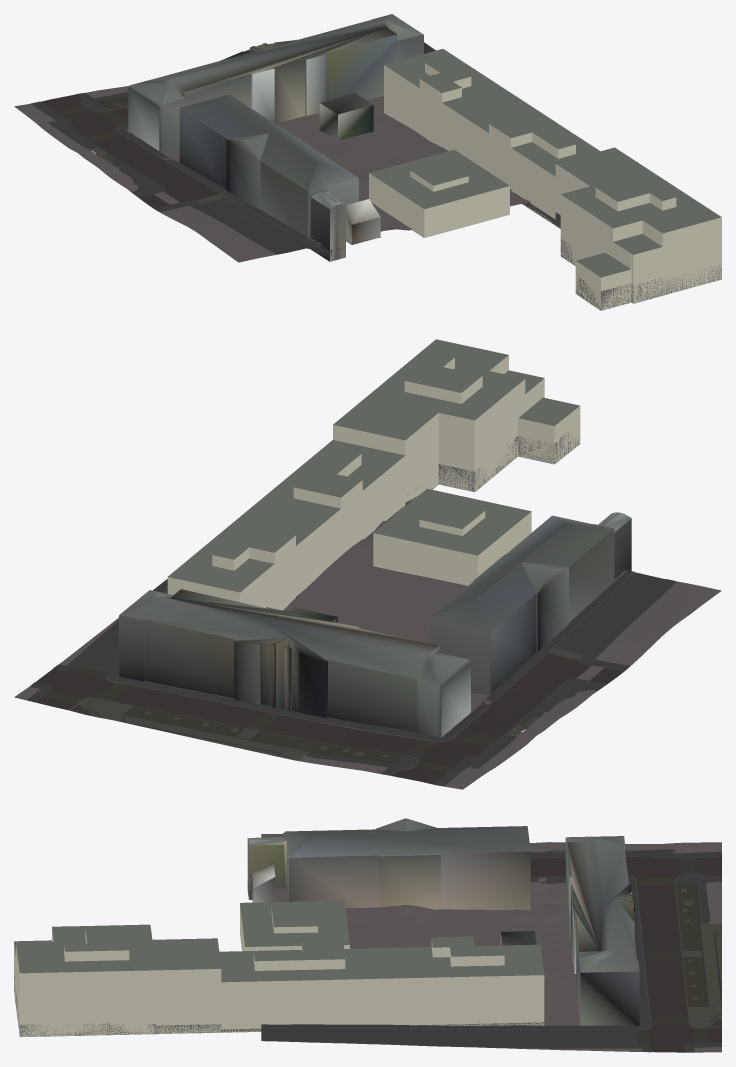
3 views of the same model, one above another, from view 1: azimuth 30°, elevation 25°; view 2: azimuth 150°, elevation 25°; view 3: azimuth 270°, elevation 25° (orthographic). The views are drawn at different scales.
Visible parts, largest first — view 1: c_m02_p04; view 2: c_m02_p04; view 3: c_m02_p04.
Boxes of the visible parts, x1,y1,x2,y2 form: c_m02_p04: (14, 14, 721, 310); c_m02_p04: (14, 339, 721, 789); c_m02_p04: (14, 818, 721, 1052).
Size of the model in its own units: 128 by 23.89 by 197.
